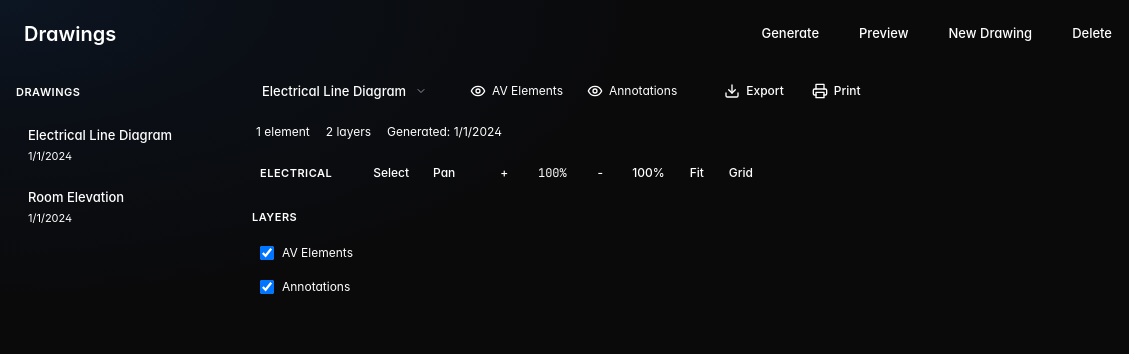
DrawingsPage › Drawing Generation › shows error when generation fails
This screenshot has width=1129, height=354.
Click the button "Generate" at [790, 34], box [746,16,835,52]
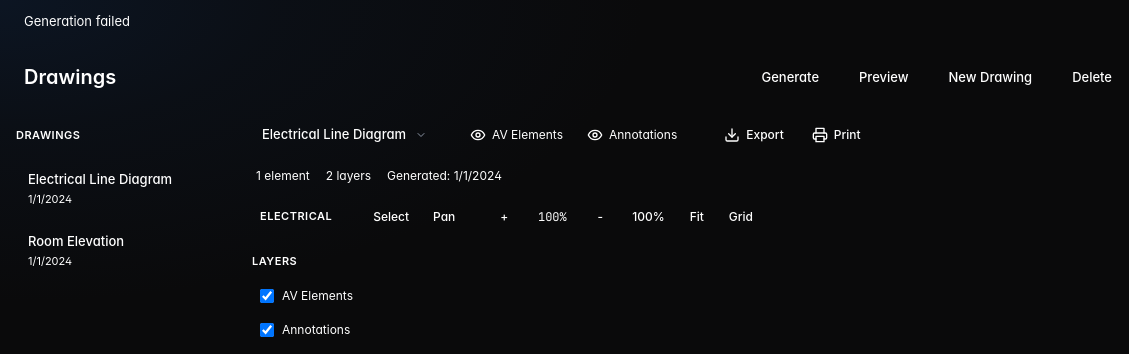
Expected: the message reads "Generation failed", [24,13,130,29]
